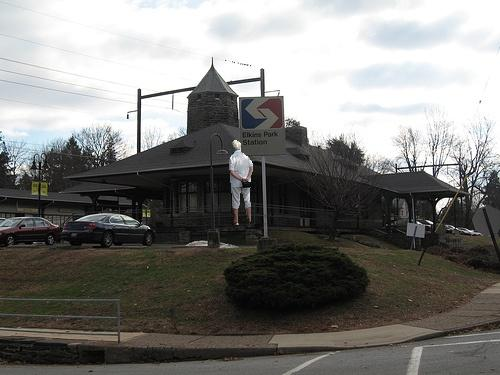tampered: (230, 141, 253, 225)
